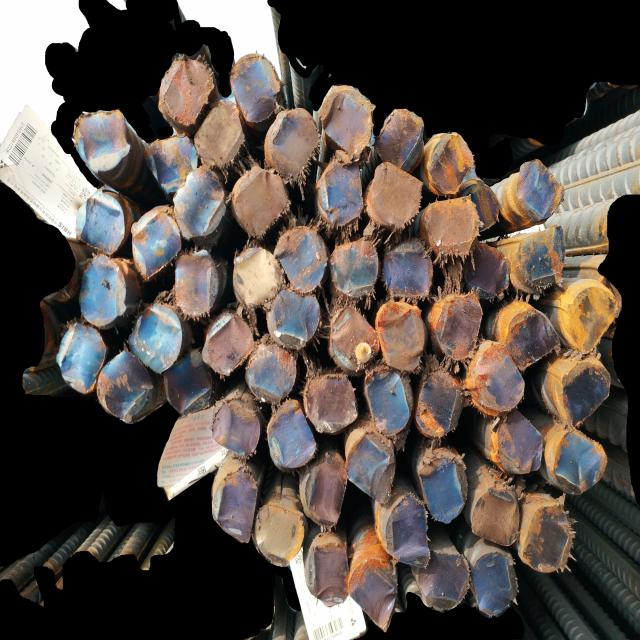Steel-Rod: (153, 52, 220, 129), (232, 158, 294, 239), (67, 109, 136, 178), (70, 190, 138, 260), (51, 319, 111, 397), (471, 335, 523, 422), (490, 406, 548, 480), (264, 284, 329, 350), (525, 493, 574, 580), (98, 349, 156, 422), (171, 169, 228, 243), (272, 224, 329, 298), (265, 105, 320, 181), (566, 276, 620, 352), (321, 86, 381, 154), (418, 445, 469, 525), (370, 164, 425, 238), (145, 127, 204, 195), (128, 204, 184, 275), (382, 496, 437, 568), (503, 307, 563, 373), (252, 499, 306, 572), (210, 465, 259, 545), (80, 255, 133, 328), (380, 302, 433, 374), (332, 306, 387, 375), (333, 241, 396, 301), (265, 397, 317, 469), (321, 160, 372, 233), (344, 561, 391, 640), (228, 54, 281, 124), (130, 305, 184, 373), (305, 367, 358, 436), (342, 437, 397, 502), (553, 424, 604, 493), (415, 548, 468, 614), (513, 158, 566, 223), (473, 478, 522, 548), (429, 129, 477, 200), (299, 450, 345, 524), (425, 205, 486, 260), (475, 552, 523, 621), (365, 372, 417, 433), (202, 89, 241, 170), (203, 312, 252, 375), (253, 345, 300, 410), (520, 232, 573, 289), (390, 239, 436, 302), (437, 297, 485, 357), (213, 402, 265, 455), (381, 108, 424, 170), (312, 538, 350, 608), (175, 257, 219, 317), (562, 362, 605, 422), (420, 372, 458, 439), (164, 366, 214, 416), (473, 248, 518, 302), (238, 255, 276, 304), (464, 183, 503, 225)
